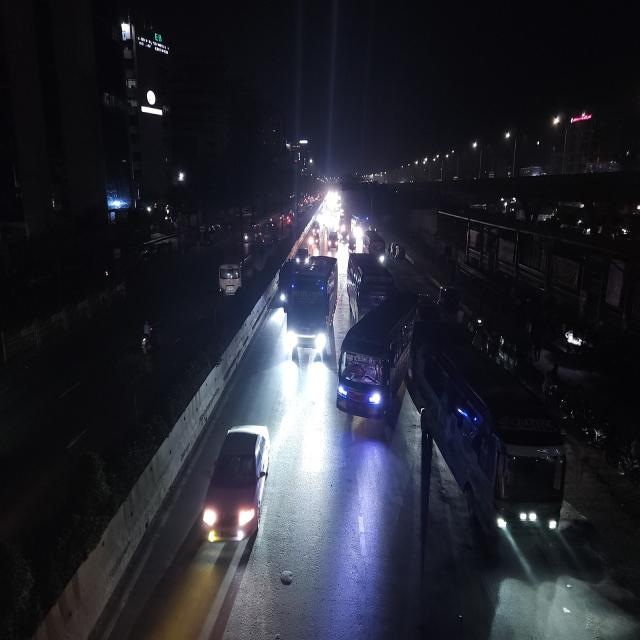bus: (415, 324, 571, 543), (338, 290, 420, 429), (288, 252, 340, 364), (345, 250, 393, 319), (216, 254, 248, 298), (364, 229, 387, 262)
car: (201, 419, 273, 560), (296, 245, 310, 268), (327, 228, 339, 253)
cng: (439, 283, 461, 322)
motorcycle: (136, 314, 160, 379)
